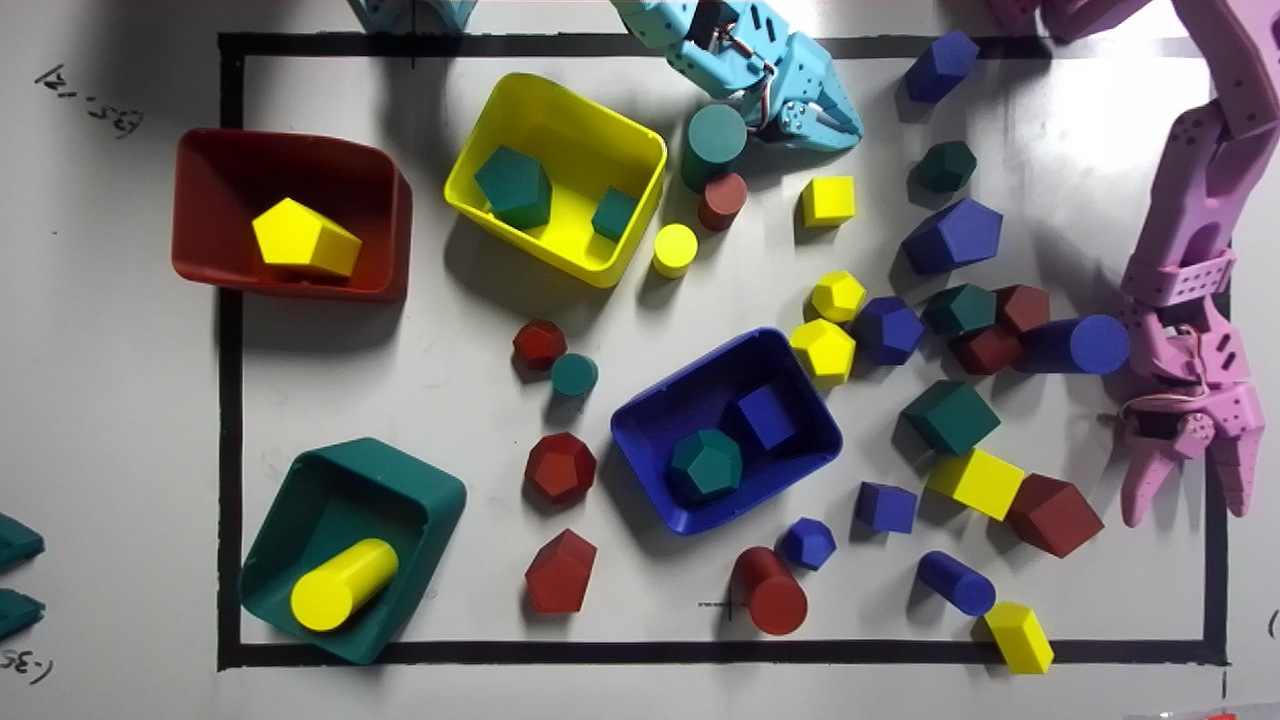bin: (240, 439, 465, 663), (611, 327, 842, 534), (443, 73, 666, 287), (171, 128, 411, 302)
cube: (1005, 473, 1103, 557), (900, 380, 1000, 454), (926, 448, 1025, 520), (737, 384, 795, 450), (949, 325, 1021, 374), (854, 482, 917, 533), (801, 176, 855, 226), (592, 188, 637, 240)
cylinder: (290, 538, 397, 631), (1012, 315, 1128, 374), (730, 547, 807, 635), (681, 104, 746, 192), (917, 550, 995, 616), (698, 172, 747, 231), (652, 223, 697, 277), (551, 353, 598, 395)
dodecahedron: (667, 429, 742, 504), (524, 432, 596, 503), (850, 296, 924, 364), (790, 319, 855, 388), (774, 517, 836, 569), (912, 141, 976, 191), (810, 271, 865, 323), (513, 319, 566, 370)
hexagonal: (252, 197, 362, 276), (902, 197, 1002, 273), (474, 146, 550, 229), (904, 30, 978, 103), (983, 602, 1053, 673), (922, 284, 995, 334), (995, 285, 1049, 336)
